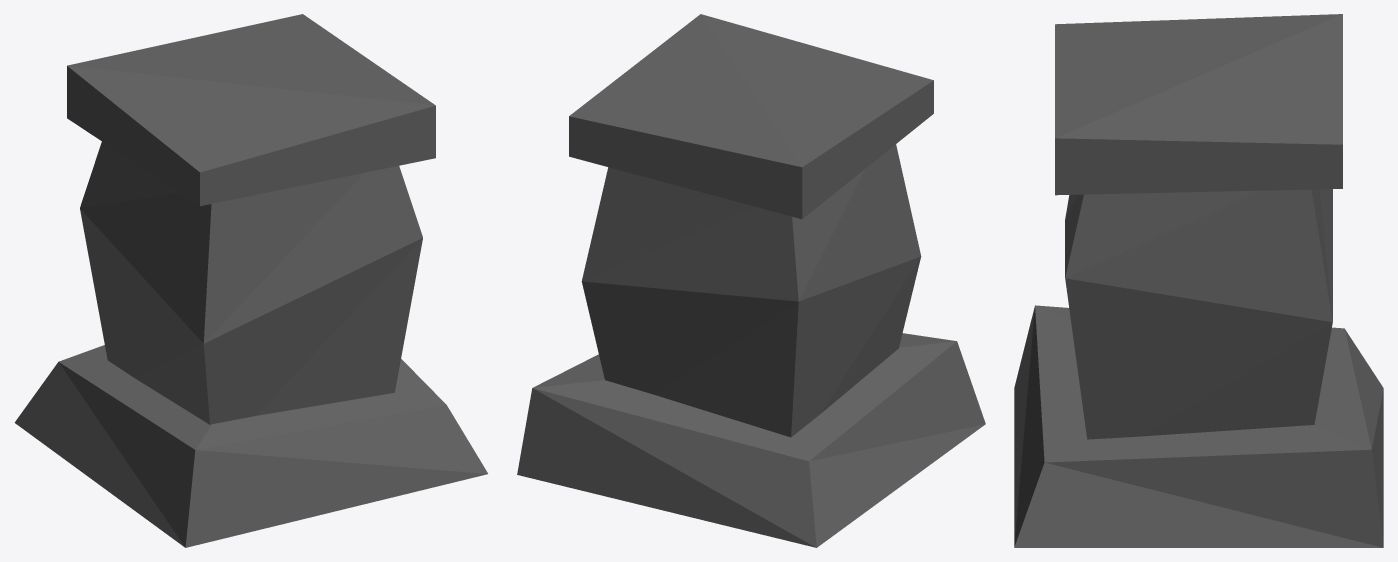
File: Stone_Rail_03.FBX
3 views of the same model, side by side, from view 1: azimuth 30°, elevation 25°; view 2: azimuth 150°, elevation 25°; view 3: azimuth 270°, elevation 25° (orthographic). The views are drawn at different scales.
Visible parts, largest first — view 1: Stone_Rail_03; view 2: Stone_Rail_03; view 3: Stone_Rail_03.
Boxes of the visible parts, x1,y1,x2,y2 form: Stone_Rail_03: (14,14,487,547); Stone_Rail_03: (517,14,985,547); Stone_Rail_03: (1014,14,1383,547).
Bounding box in the file's own units: 1.07 × 1.22 × 1.04.
